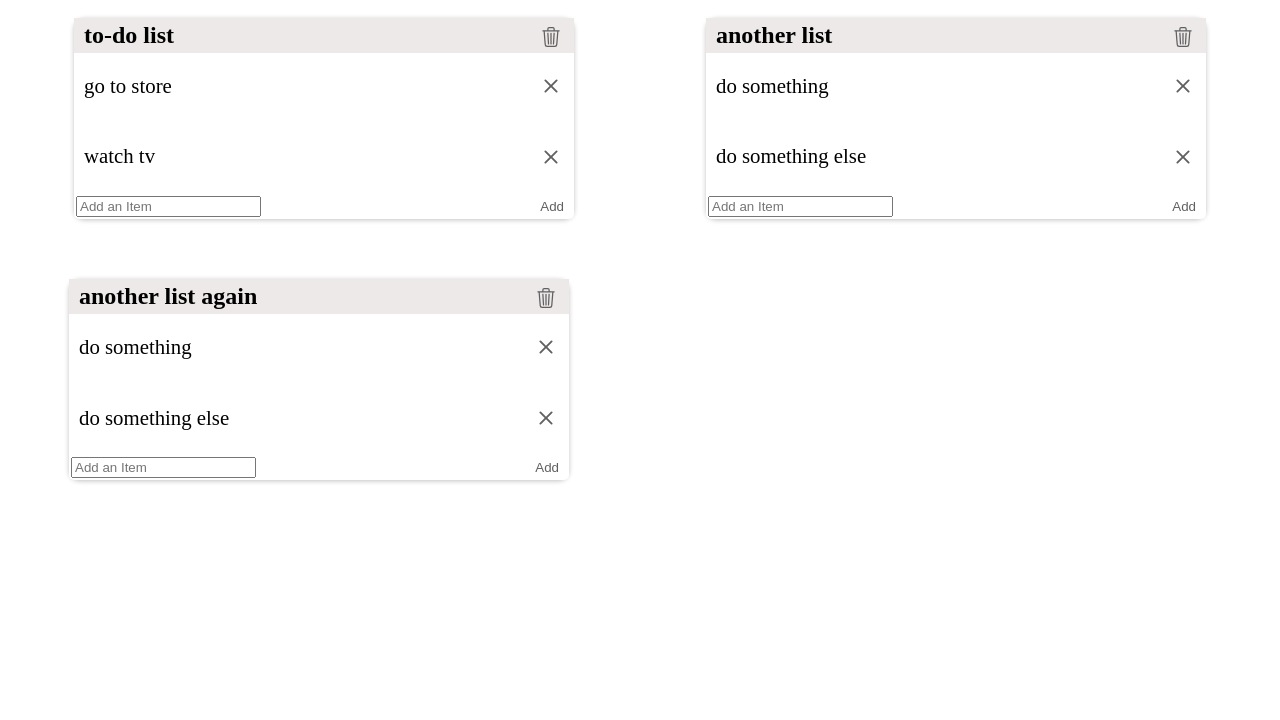
Test: list › adds list item
The image size is (1280, 720).
Type "do something" into the field named "new list item input" at (168, 207), box [76,196,261,217]
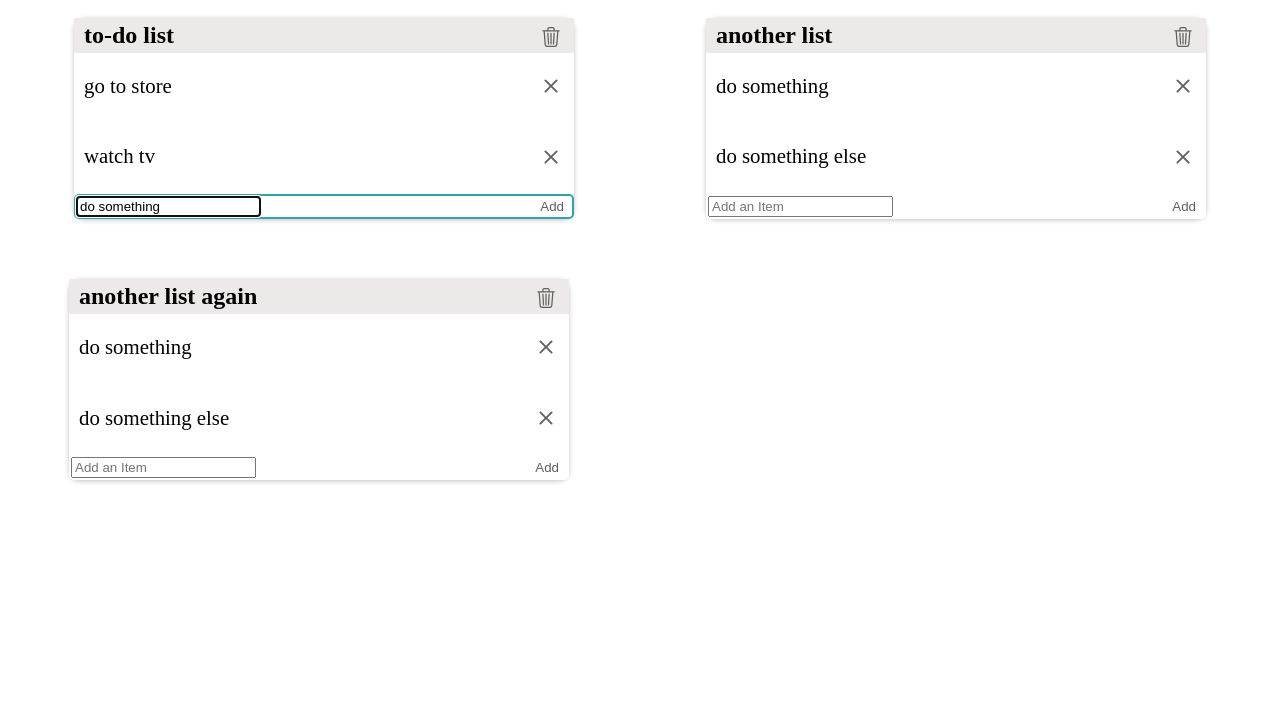
Click the 1st button "Add" at (552, 207), box [532,196,572,217]
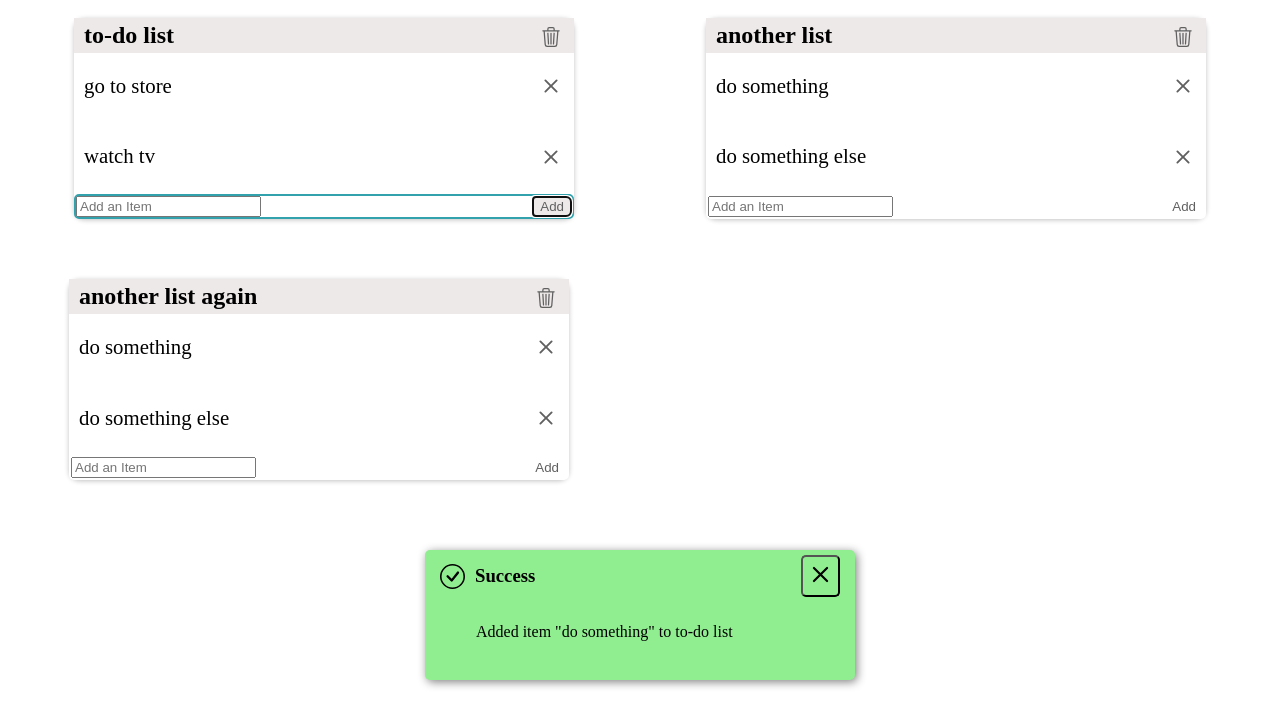
Expected: the text "Added item \"do something\" to to-do list" is shown, [476,623,733,640]
